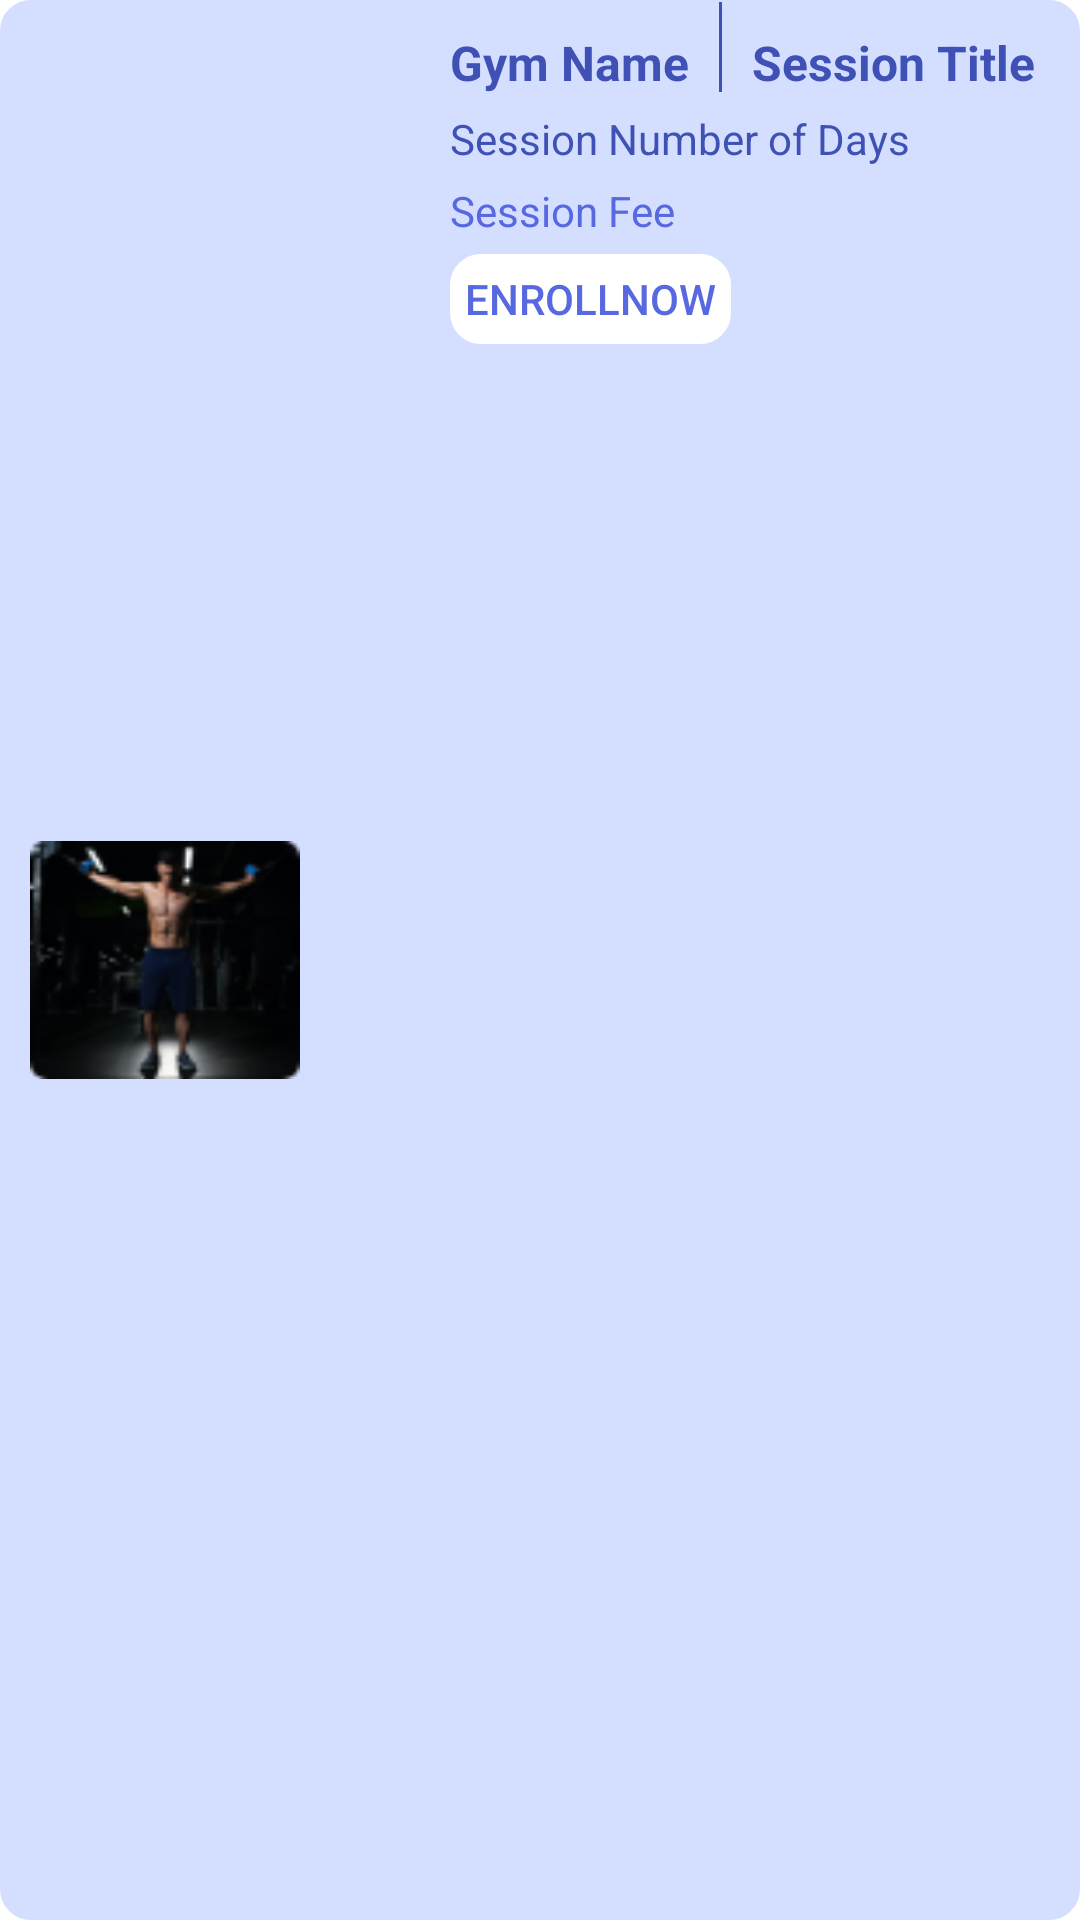

Icon bounding boxes for this 1080x1920 phone screenshot, format box(x1, y1, x2, y2):
session: box(30, 841, 300, 1079)
